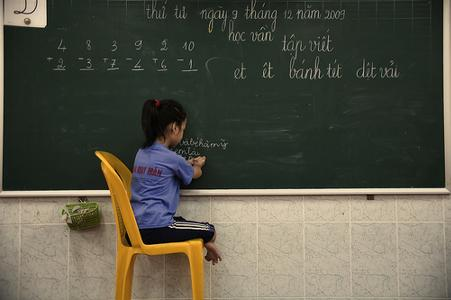person: (125, 96, 223, 265)
